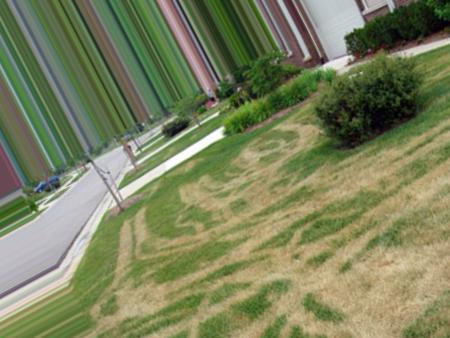patch: (334, 275, 421, 323), (275, 253, 324, 279), (389, 256, 450, 276), (145, 290, 173, 306), (278, 301, 310, 313), (124, 293, 136, 310)
